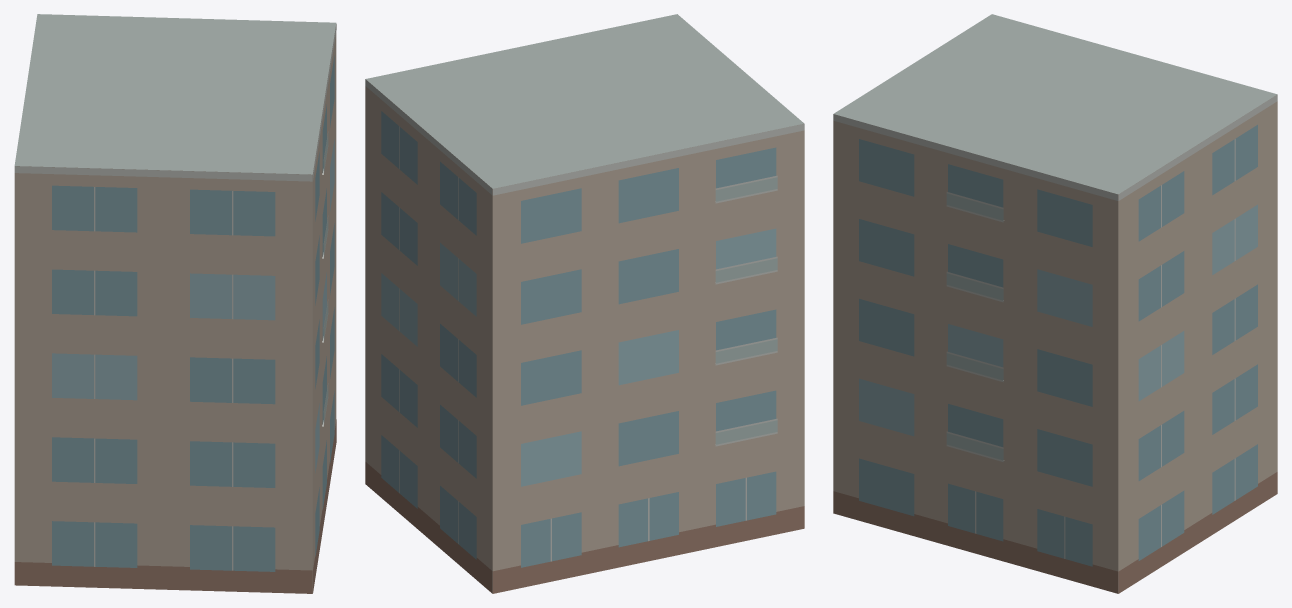
File: survey-upis-32893956.glb
3 renders of one model, left to right at view 1: azimuth 30°, elevation 25°; view 2: azimuth 150°, elevation 25°; view 3: azimuth 270°, elevation 25°, orthographic. The views are drawn at different scales.
Parts seen in each view (by area): view 1: survey-upis-32893956.tmp; view 2: survey-upis-32893956.tmp; view 3: survey-upis-32893956.tmp.
Boxes of the visible parts, <box> form: survey-upis-32893956.tmp: <box>14,14,336,593</box>; survey-upis-32893956.tmp: <box>365,14,804,593</box>; survey-upis-32893956.tmp: <box>833,14,1277,593</box>.
Size of the model in its own units: 14.06 by 14.5 by 14.63.
